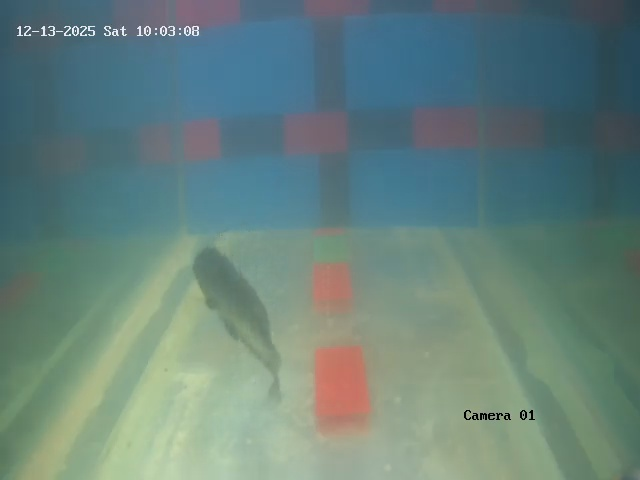fish: (193, 243, 275, 362)
